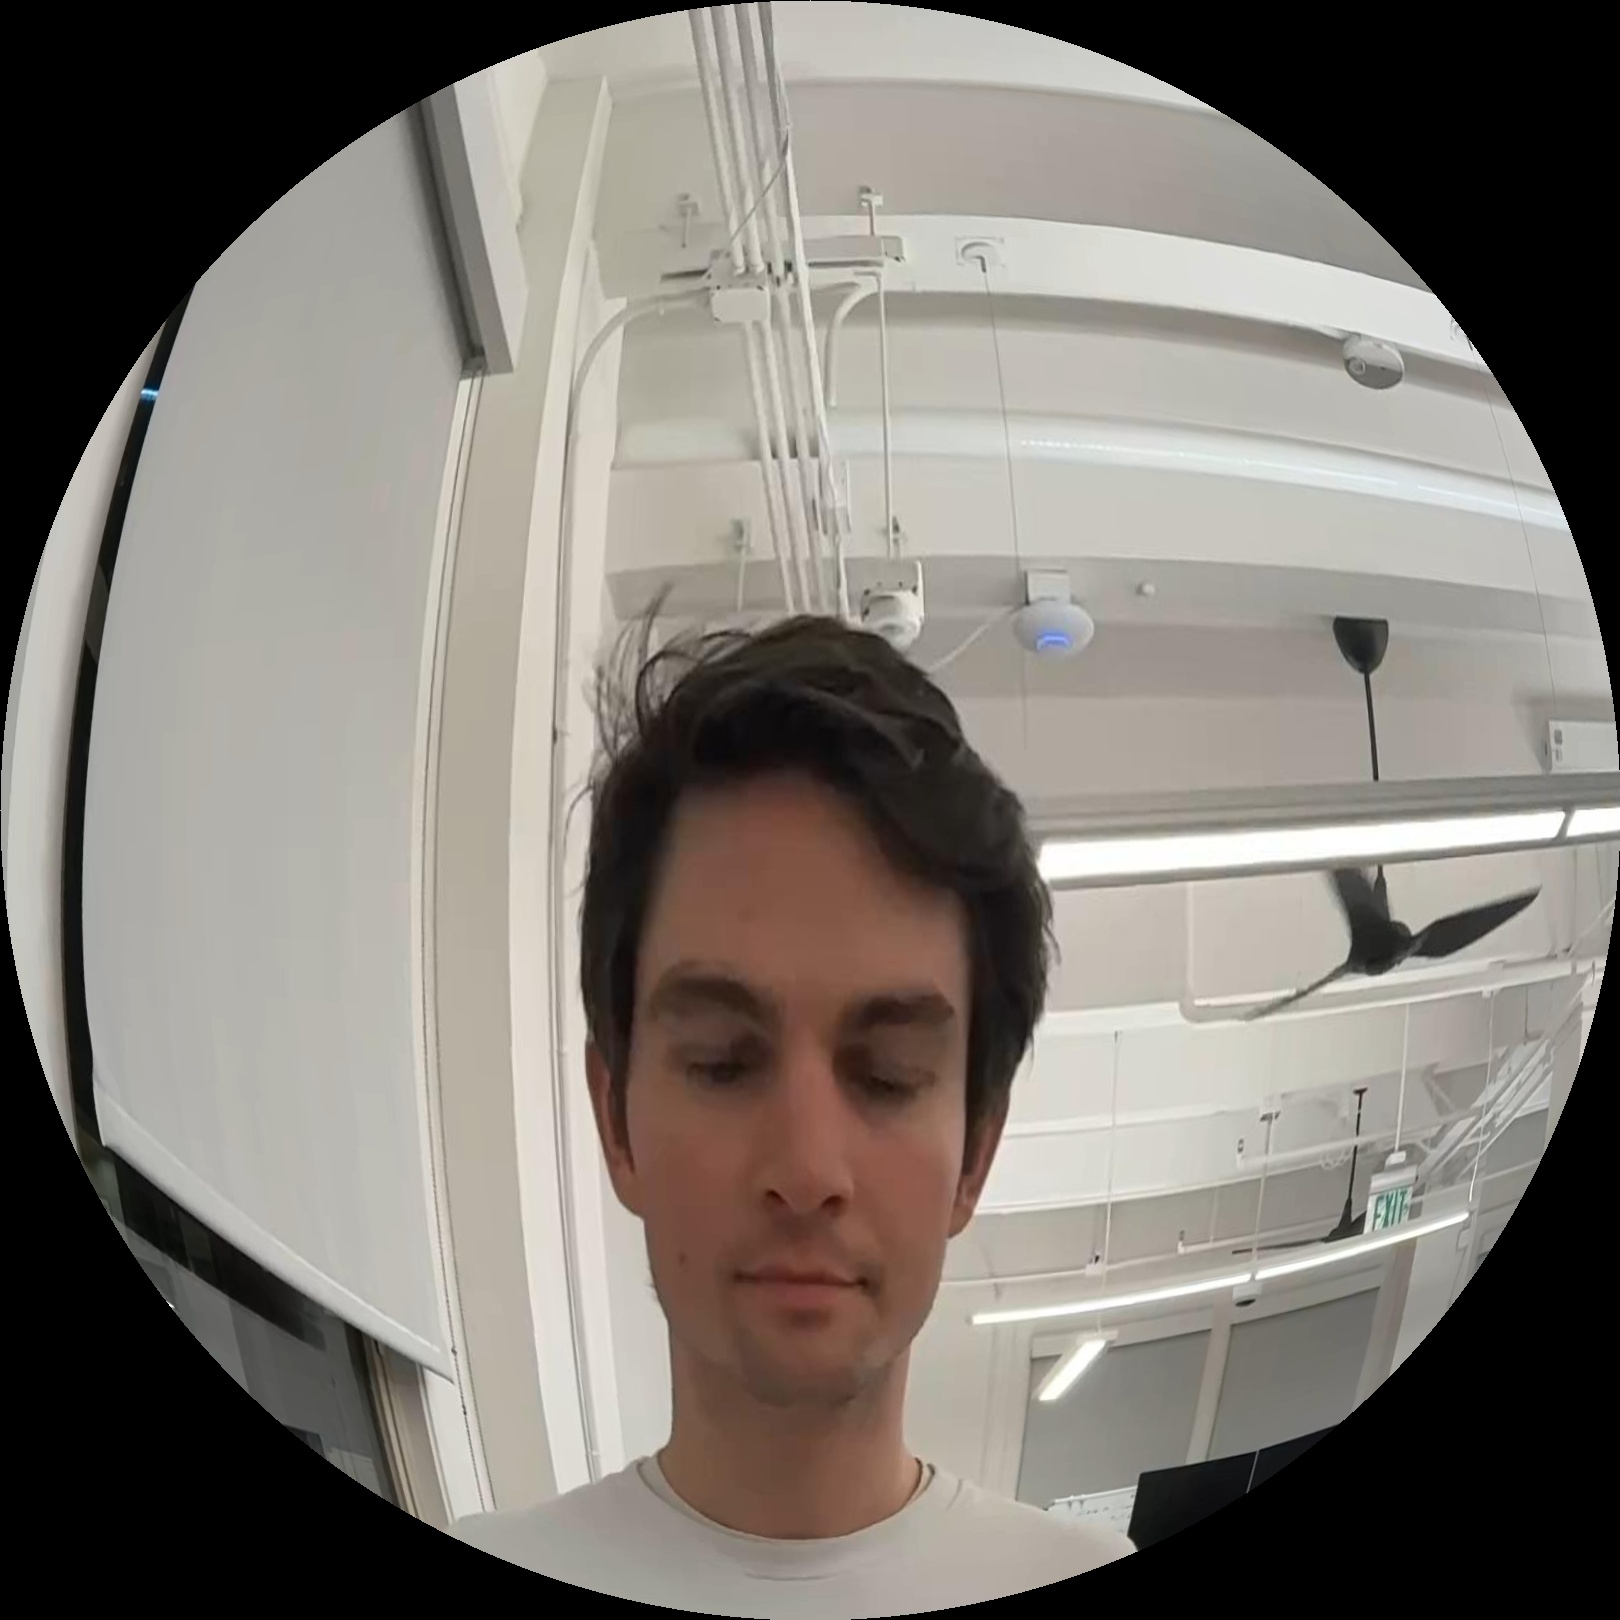face: (557, 603, 1061, 1434)
